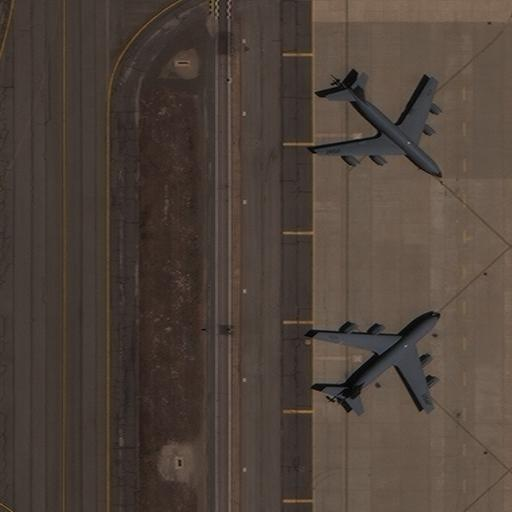Military Transport: (319, 78, 442, 177), (318, 311, 441, 407)
